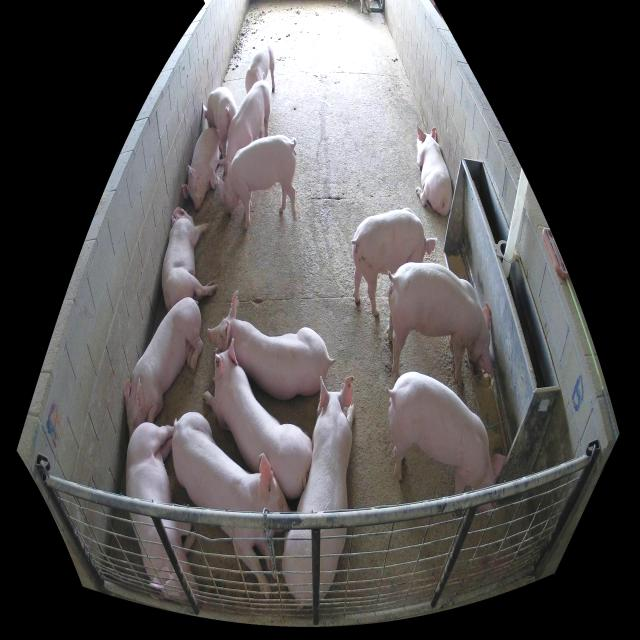pig: (172, 412, 288, 602), (202, 335, 312, 501), (282, 375, 356, 609), (390, 373, 507, 508), (126, 423, 204, 605), (208, 287, 331, 398), (386, 263, 494, 387), (125, 299, 203, 438), (352, 208, 438, 318), (216, 133, 298, 231), (161, 206, 218, 314), (214, 79, 271, 176), (415, 124, 453, 216), (182, 127, 224, 210), (202, 86, 238, 156), (245, 40, 275, 94)
